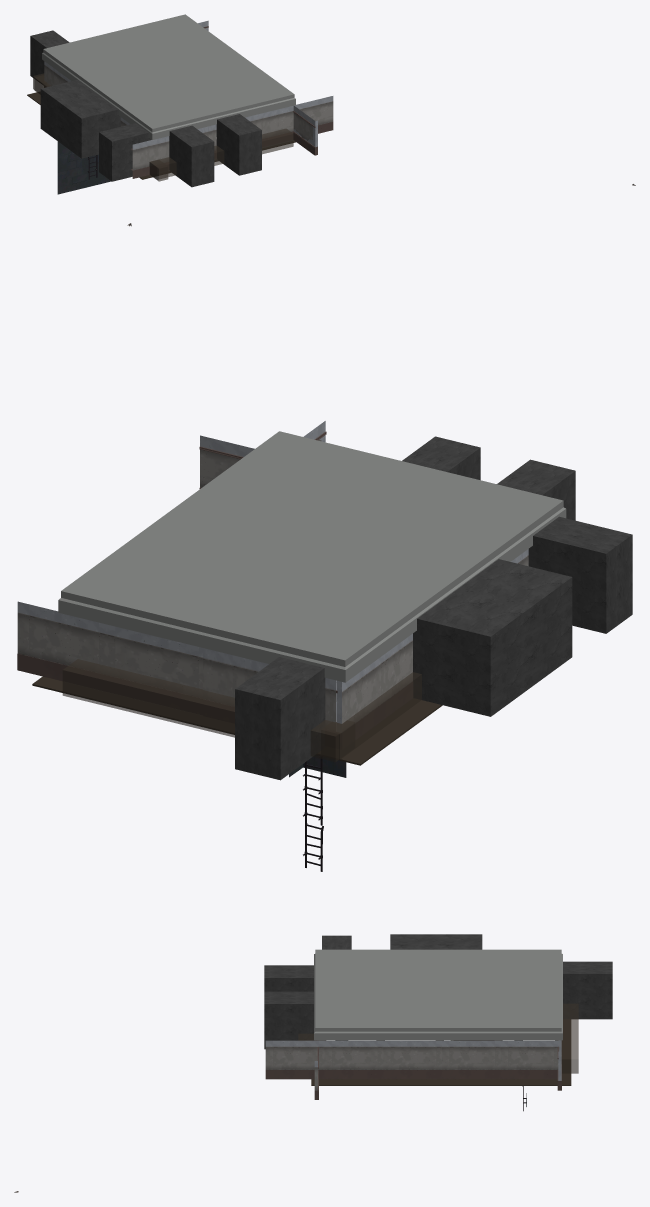
Rendered from original-lobby.glb.
3 views of the same model, one above another, from view 1: azimuth 30°, elevation 25°; view 2: azimuth 150°, elevation 25°; view 3: azimuth 270°, elevation 25° (orthographic). The views are drawn at different scales.
Parts seen in each view (by area): view 1: dm65_main_rooftop001_103, dm65_main_box001_115, dm65_main_brick005b_141, dm65_main_box001_134, dm65_main_box001_135, dm65_main_box001_121, dm65_main_stair01_151_3, dm65_main_pengzhuang001_119, dm65_main_box001_140, dm65_main_brick002_143, dm65_main_pengzhuang001_120, dm65_main_brick004_38 (+1 smaller); view 2: dm65_main_rooftop001_103, dm65_main_box001_115, dm65_main_box001_140, dm65_main_pengzhuang001_118, dm65_main_box001_121, dm65_main_brick002_55, dm65_main_brick001_54, dm65_main_brick004_38, dm65_main_baimo_005_135, dm65_main_brick005b_136, dm65_main_pengzhuang001_120, dm65_main_box001_134 (+3 smaller); view 3: dm65_main_rooftop001_103, dm65_main_box001_140, dm65_main_box001_135, dm65_main_brick002_142, dm65_main_brick002_140, dm65_main_brick002_141, dm65_main_brick002_138, dm65_main_brick002_143, dm65_main_baimo_005_135, dm65_main_box001_115, dm65_main_box001_134, dm65_main_pengzhuang001_118 (+1 smaller).
Part boxes in pixels (box(x1,y1,x2,y2)): dm65_main_rooftop001_103: box(42, 14, 295, 139); dm65_main_box001_115: box(40, 80, 120, 158); dm65_main_brick005b_141: box(131, 96, 333, 178); dm65_main_box001_134: box(169, 125, 214, 187); dm65_main_box001_135: box(216, 114, 261, 175); dm65_main_box001_121: box(99, 123, 150, 181); dm65_main_stair01_151_3: box(57, 141, 111, 194); dm65_main_pengzhuang001_119: box(150, 128, 293, 179); dm65_main_box001_140: box(30, 30, 69, 84); dm65_main_brick002_143: box(293, 106, 317, 155); dm65_main_pengzhuang001_120: box(34, 75, 168, 181); dm65_main_brick004_38: box(44, 61, 71, 86); dm65_main_rooftop001_103: box(58, 431, 566, 682); dm65_main_box001_115: box(413, 559, 572, 716); dm65_main_box001_140: box(235, 657, 325, 780); dm65_main_pengzhuang001_118: box(62, 659, 354, 762); dm65_main_box001_121: box(528, 516, 632, 633); dm65_main_brick002_55: box(107, 625, 202, 715); dm65_main_brick001_54: box(17, 601, 107, 691); dm65_main_brick004_38: box(336, 633, 412, 748); dm65_main_baimo_005_135: box(32, 676, 442, 765); dm65_main_brick005b_136: box(203, 648, 336, 747); dm65_main_pengzhuang001_120: box(321, 672, 421, 759); dm65_main_box001_134: box(497, 459, 575, 520); dm65_main_rooftop001_103: box(314, 949, 562, 1040); dm65_main_box001_140: box(563, 961, 612, 1019); dm65_main_box001_135: box(264, 991, 313, 1049); dm65_main_brick002_142: box(324, 1040, 383, 1079); dm65_main_brick002_140: box(442, 1040, 500, 1079); dm65_main_brick002_141: box(383, 1040, 441, 1079); dm65_main_brick002_138: box(500, 1040, 559, 1079); dm65_main_brick002_143: box(265, 1040, 324, 1079); dm65_main_baimo_005_135: box(311, 1019, 571, 1085); dm65_main_box001_115: box(390, 934, 482, 949); dm65_main_box001_134: box(264, 965, 313, 991); dm65_main_pengzhuang001_118: box(561, 1003, 578, 1073).
Size of what is drawn, in the model's own units: 404 by 133 by 498.
Materials: 153 (147 with a texture image).
